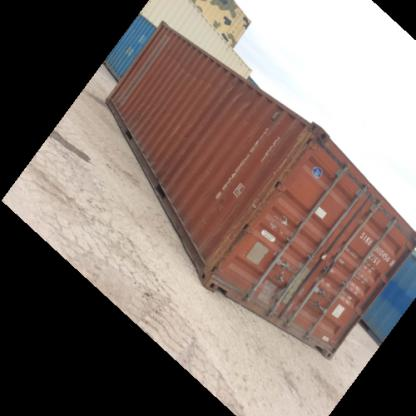Damage: (165, 49, 211, 92), (222, 78, 257, 121), (281, 266, 308, 309), (255, 272, 275, 304), (262, 209, 289, 232), (154, 158, 172, 188), (168, 117, 189, 139)
